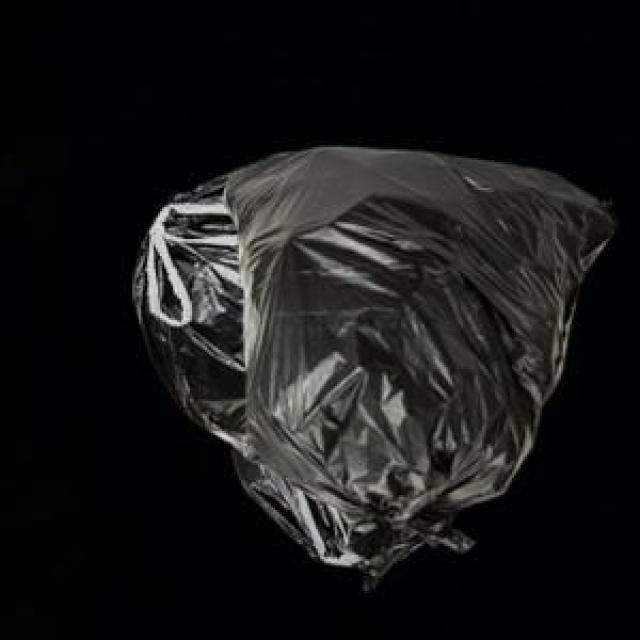Vinyl: (134, 151, 614, 584)
